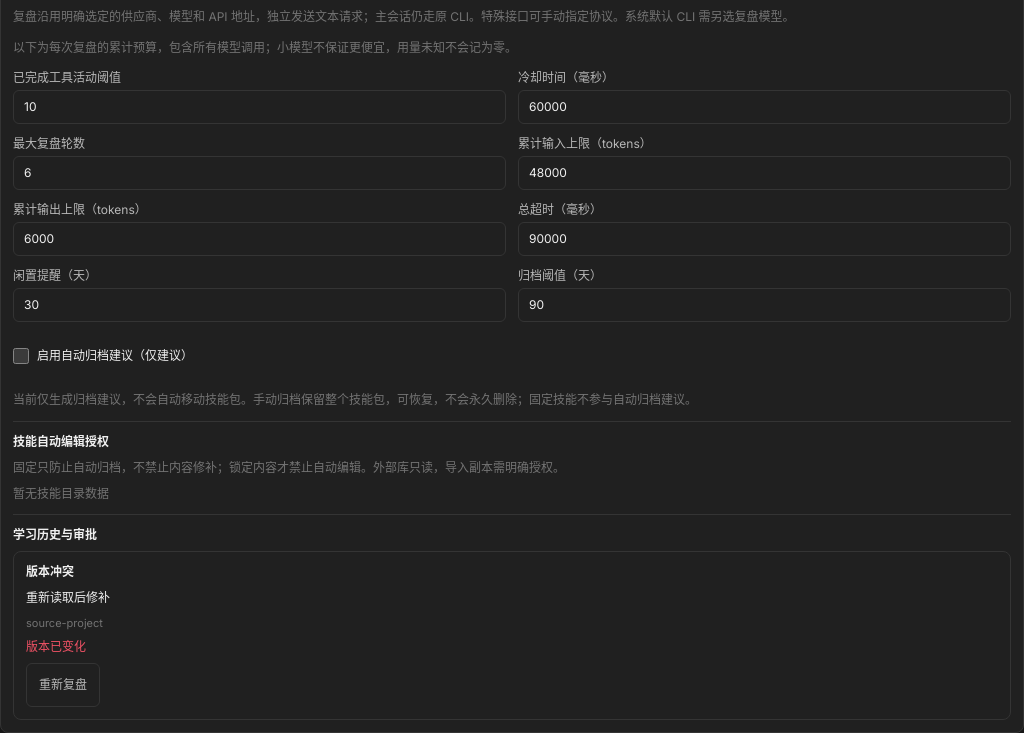
Test case: SkillLearningSettings › forwards fresh review retries from conflicted history without approving the stale batch
(page scrolled)
Step 1. Click the button named "重新复盘" → (63, 685), box top-left (26, 663), bottom-right (100, 707)
(page scrolled)
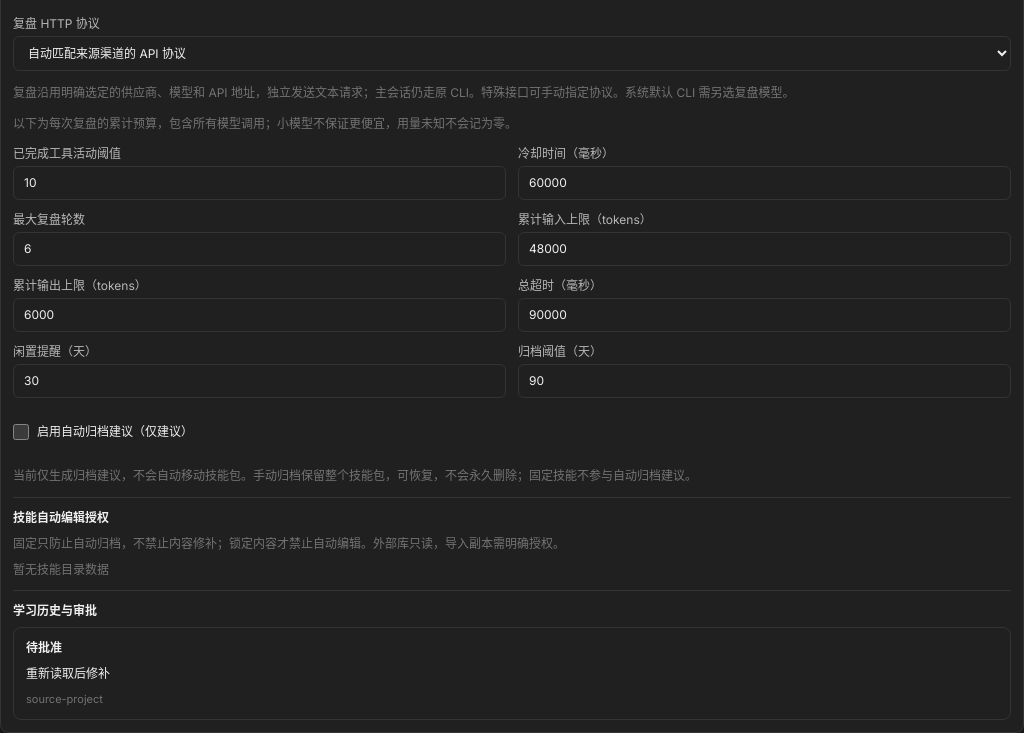
Now the message "待批准" is shown, box top-left (26, 640), bottom-right (62, 654)
